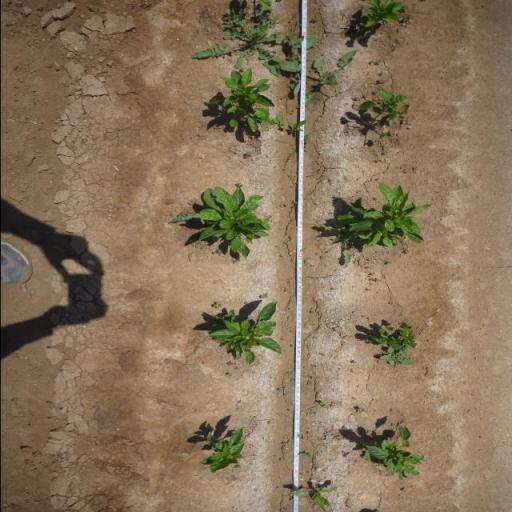plant: (193, 184, 274, 262), (350, 181, 433, 248), (205, 300, 282, 367), (205, 70, 273, 134), (359, 424, 425, 482), (356, 90, 411, 140), (196, 424, 248, 473), (350, 0, 402, 44), (362, 322, 416, 348)
weed: (189, 0, 295, 73), (279, 48, 361, 109), (259, 32, 319, 80), (316, 222, 355, 264), (288, 485, 340, 512), (378, 348, 414, 366), (272, 113, 288, 129), (290, 120, 306, 133), (211, 247, 225, 255), (354, 407, 366, 415), (401, 14, 412, 22), (212, 301, 221, 310), (318, 401, 328, 409), (297, 452, 312, 457), (259, 292, 269, 299), (244, 150, 252, 158), (310, 16, 320, 22), (304, 134, 310, 143), (376, 78, 383, 84), (374, 278, 382, 283), (402, 4, 408, 10), (283, 240, 289, 246), (243, 300, 249, 306), (234, 366, 240, 372), (231, 259, 238, 264), (226, 361, 233, 366), (235, 182, 243, 186), (376, 59, 382, 64), (368, 60, 374, 65), (296, 434, 302, 439), (342, 452, 348, 457), (342, 425, 347, 431), (381, 151, 388, 155), (386, 261, 393, 265), (403, 250, 409, 254), (300, 248, 306, 252), (368, 272, 374, 276), (309, 310, 315, 314), (225, 373, 231, 377), (350, 360, 356, 364), (368, 283, 374, 286), (365, 288, 370, 291), (366, 259, 373, 261), (374, 160, 380, 162), (388, 302, 393, 304), (370, 278, 372, 280)
